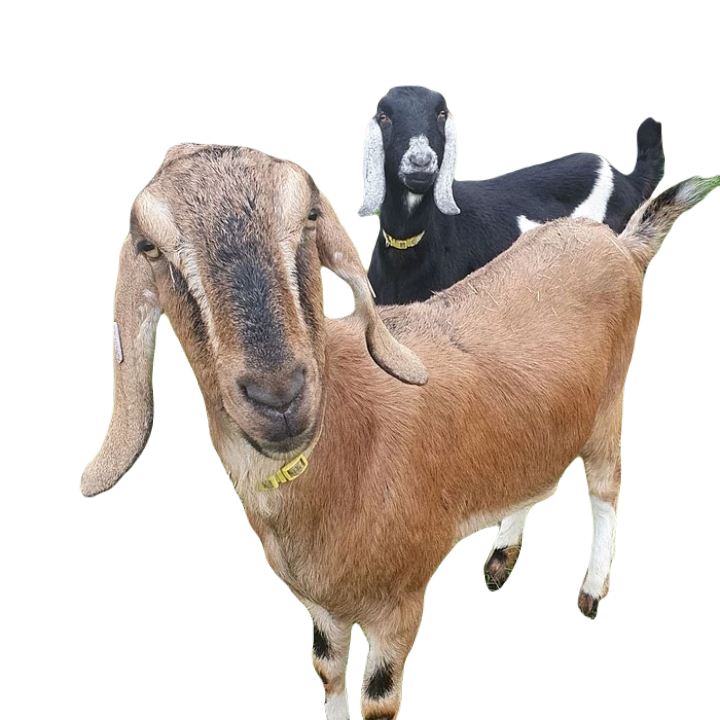Goat: (74, 136, 719, 719)
